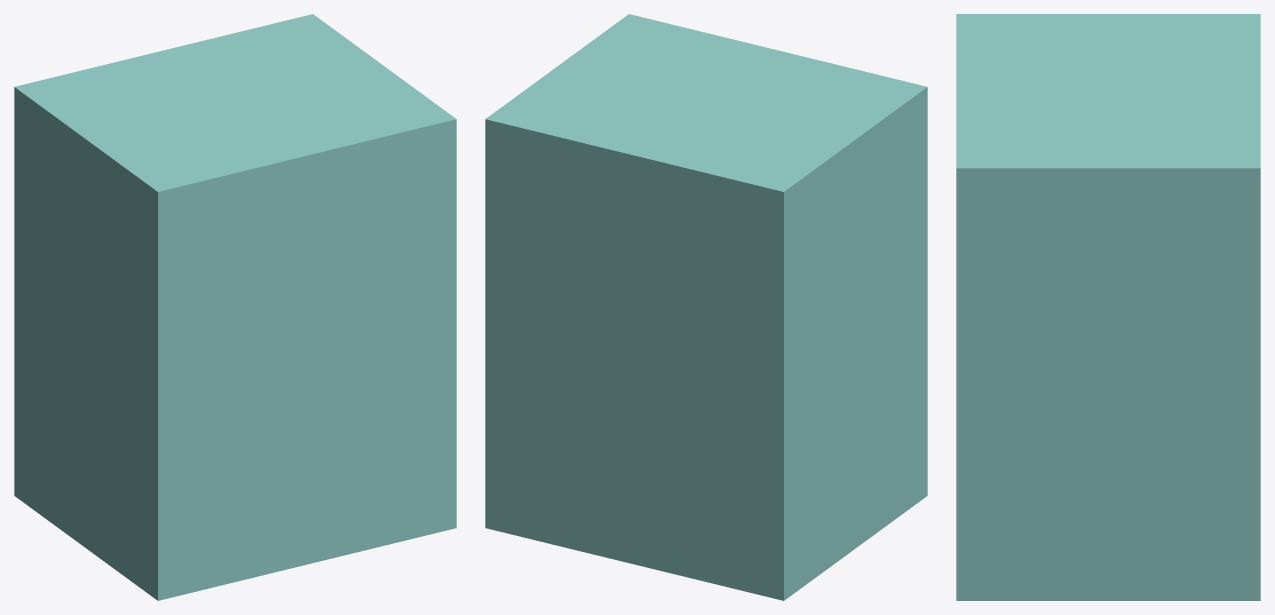
Rendered from cpu-cooler.gltf.
3 renders of one model, left to right at view 1: azimuth 30°, elevation 25°; view 2: azimuth 150°, elevation 25°; view 3: azimuth 270°, elevation 25°, orthographic. The views are drawn at different scales.
Parts seen in each view (by area): view 1: cpu-cooler-generic-envelope; view 2: cpu-cooler-generic-envelope; view 3: cpu-cooler-generic-envelope.
Boxes of the visible parts, x1,y1,x2,y2 form: cpu-cooler-generic-envelope: (14,14,456,600); cpu-cooler-generic-envelope: (485,14,927,600); cpu-cooler-generic-envelope: (956,14,1260,600).
Bounding box in the file's own units: 0.12 × 0.157 × 0.1.
